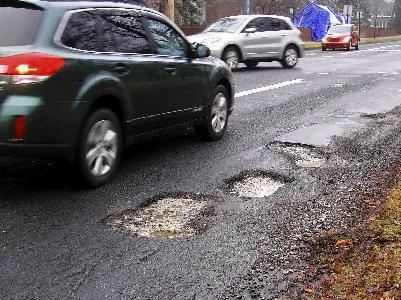pothole: (100, 188, 221, 242), (220, 166, 291, 199), (265, 137, 331, 168)
